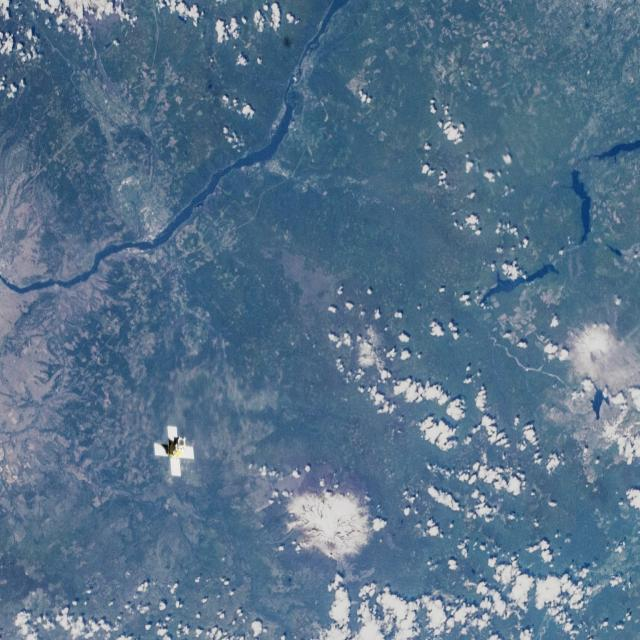satellite: (152, 417, 205, 485)
